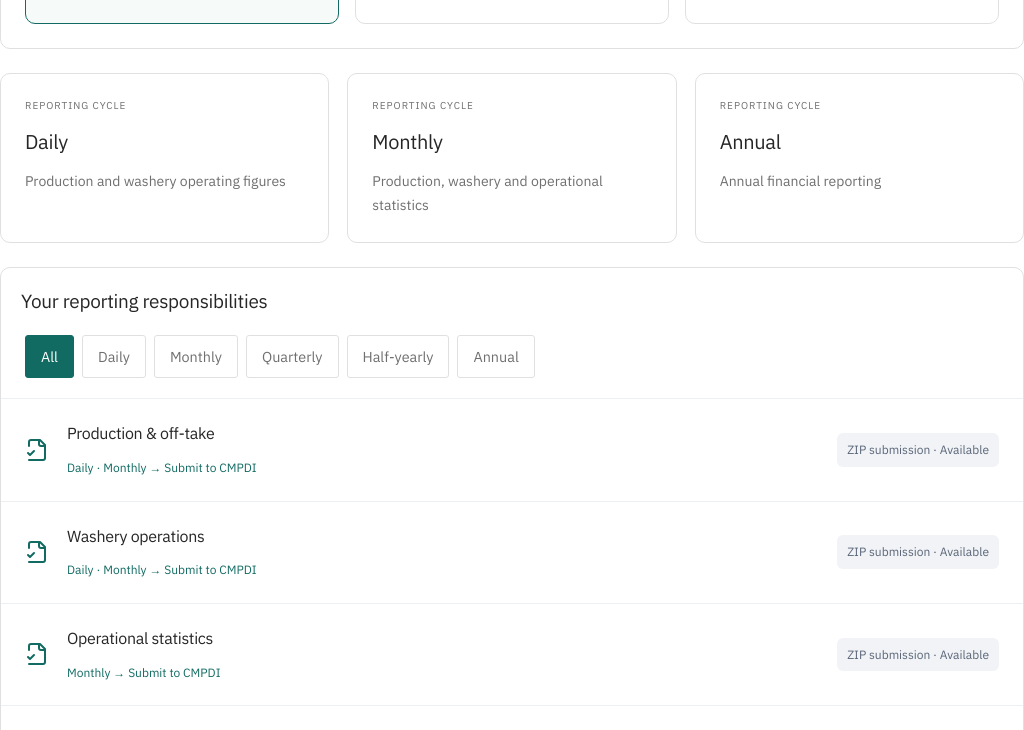
Test: production member sees CMPDI destination and filters annual report responsibilities
(page scrolled)
Step 1. Click the button "Annual" → (496, 357), box [458, 335, 535, 378]
(page scrolled)
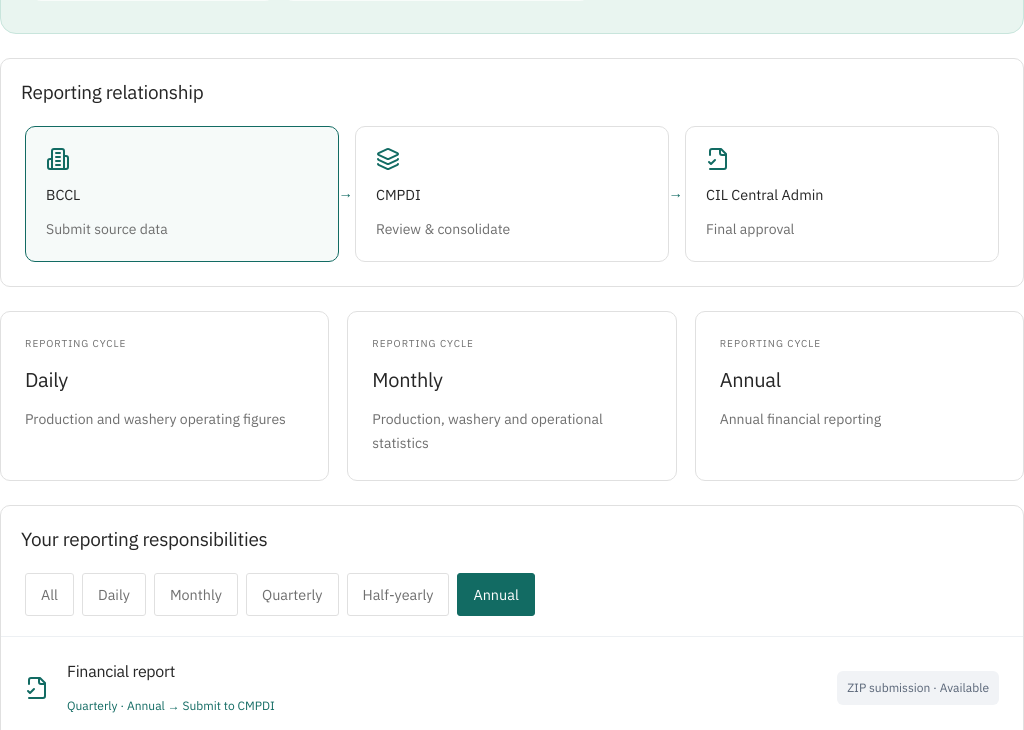
Expected: the heading "Financial report" is shown, [67, 661, 175, 681]
Result: the heading "Production & off-take" is gone
